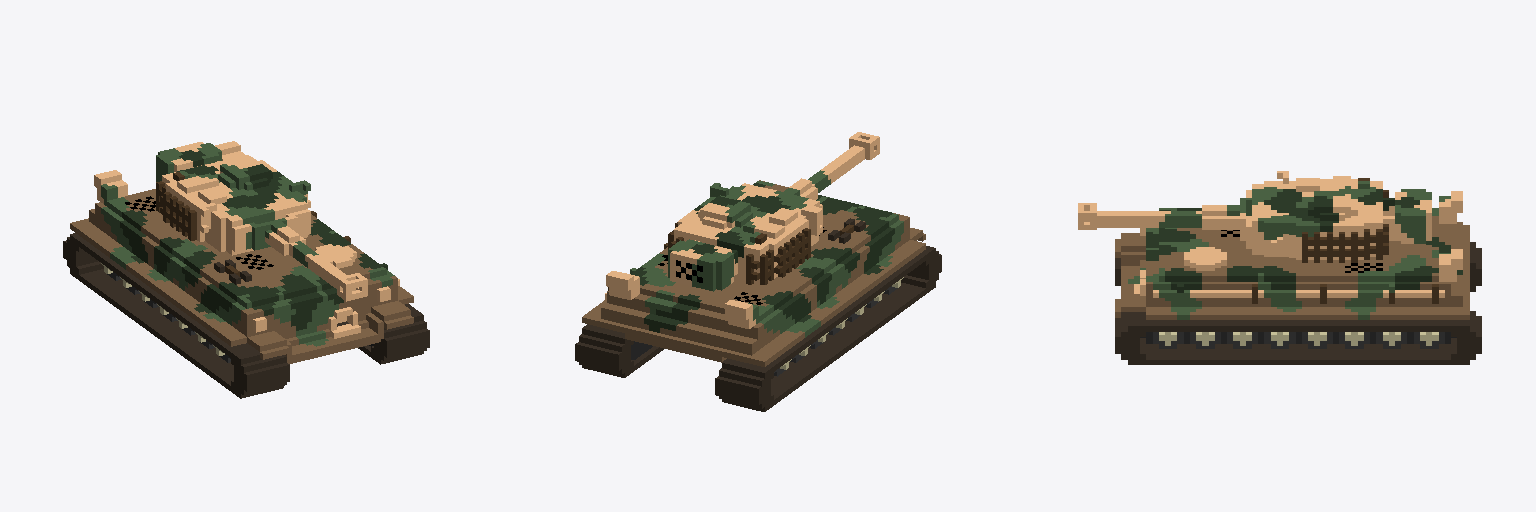
The picture shows the model from 3 angles: view 1: azimuth 30°, elevation 25°; view 2: azimuth 150°, elevation 25°; view 3: azimuth 270°, elevation 25°; orthographic projection.
Parts seen in each view (by area): view 1: object 1; view 2: object 1; view 3: object 1.
Boxes of the visible parts, <box> form: object 1: <box>63,141,429,398</box>; object 1: <box>575,132,941,411</box>; object 1: <box>1078,171,1481,364</box>.
Bounding box in the file's own units: 3.4 × 2.3 × 6.5.
1 materials, 1 textured.